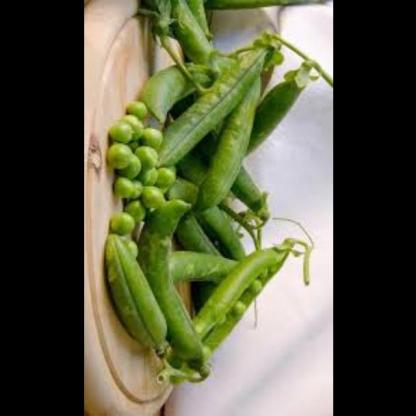peas: (109, 0, 318, 400), (103, 103, 176, 234)
